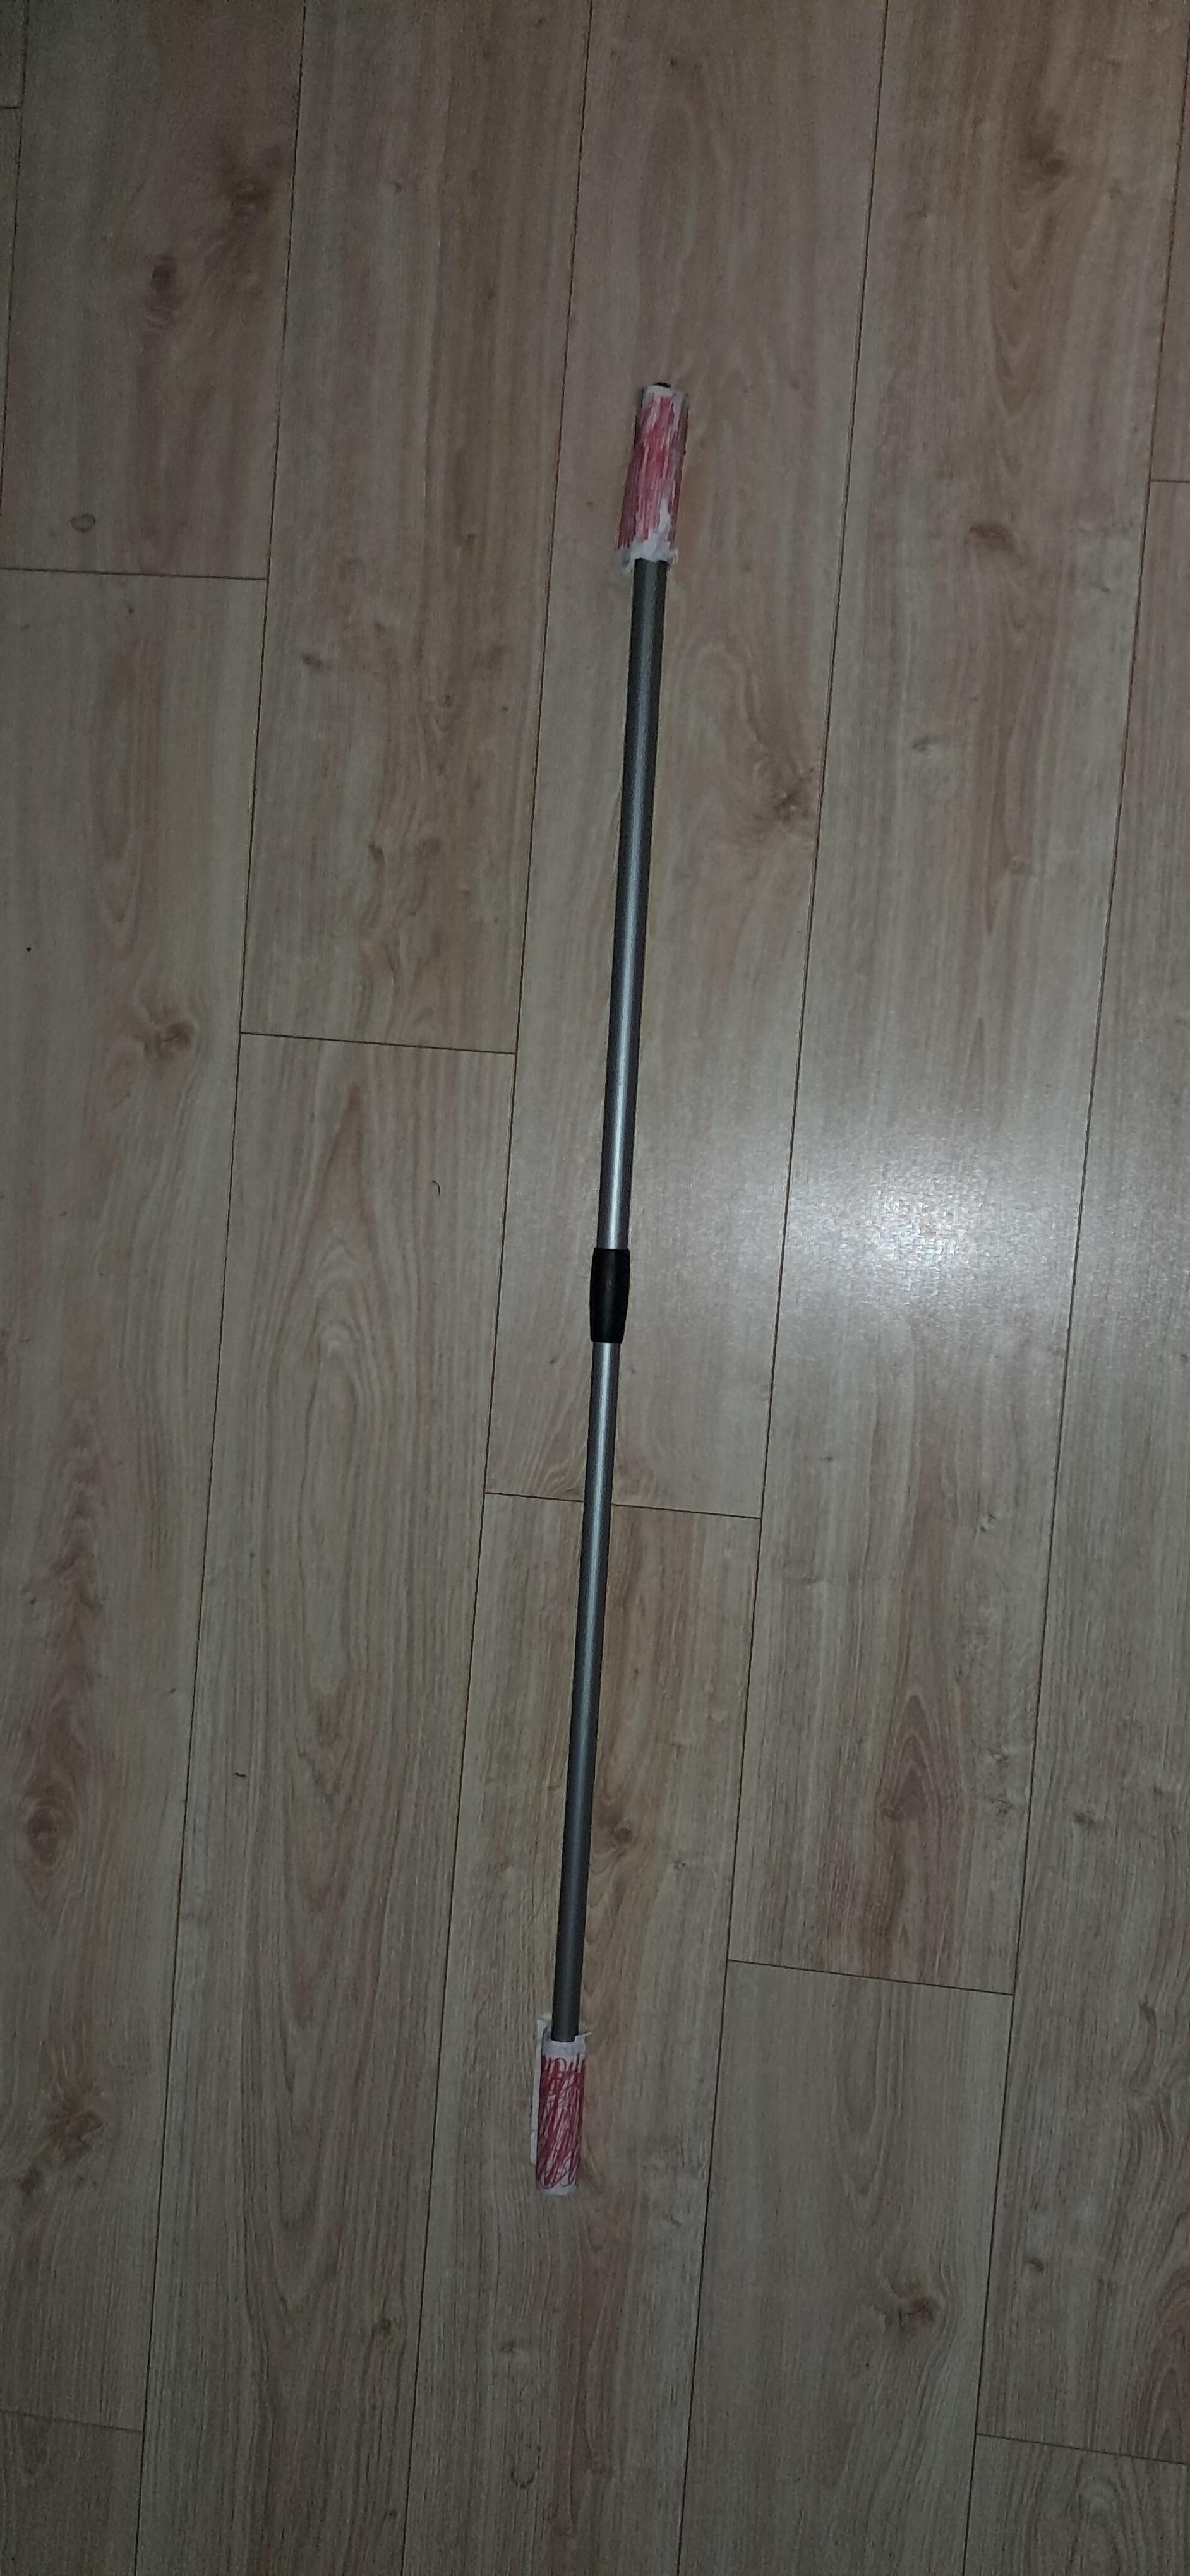broom-handle: (534, 388, 684, 2190)
